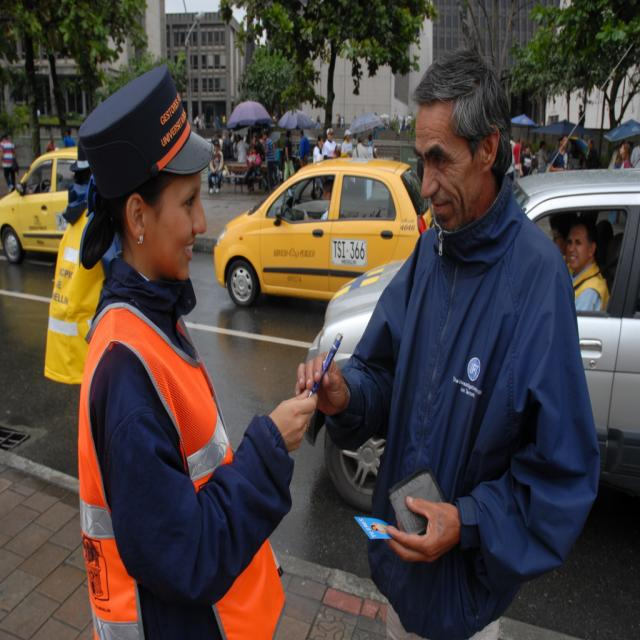other: (304, 45, 639, 510), (214, 155, 434, 309), (0, 132, 74, 270)
